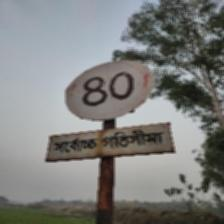Speed-limit: (46, 58, 172, 164)
